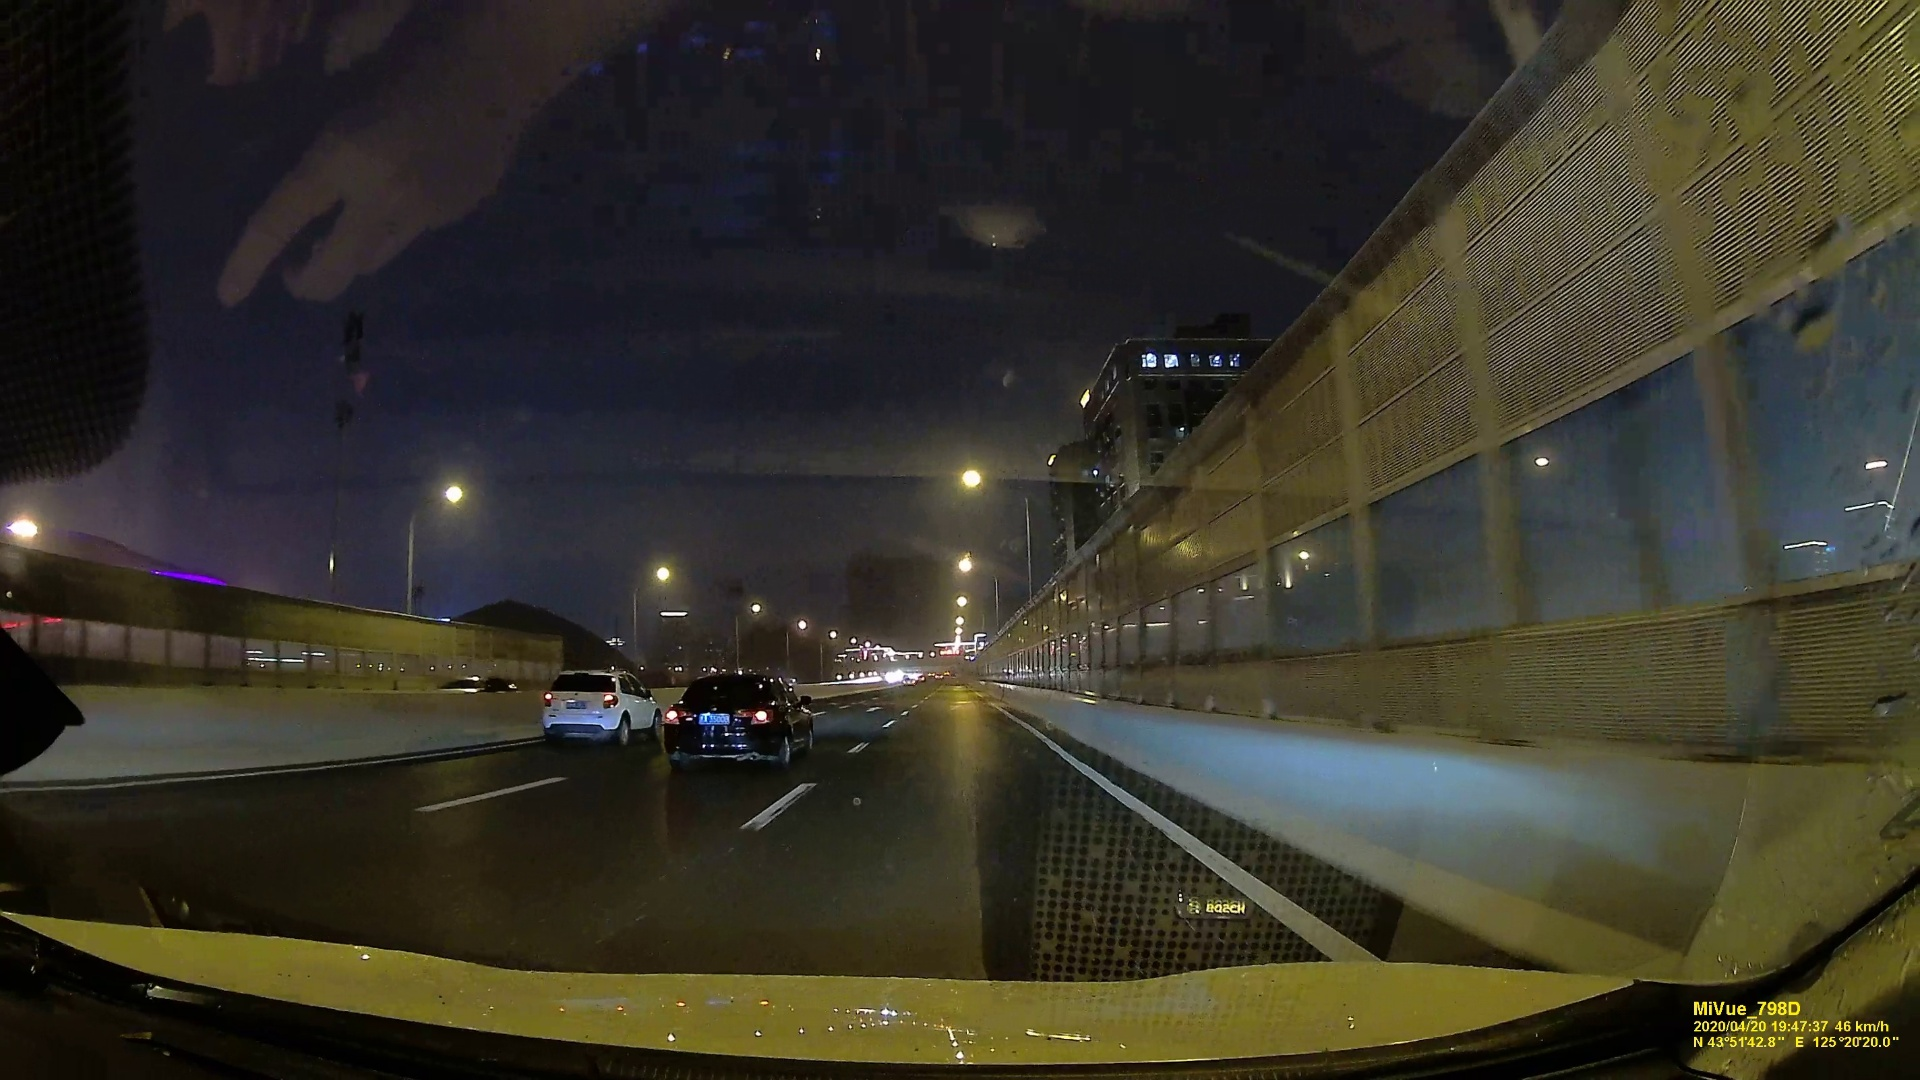vehicle: (661, 670, 820, 769), (537, 665, 655, 744)
